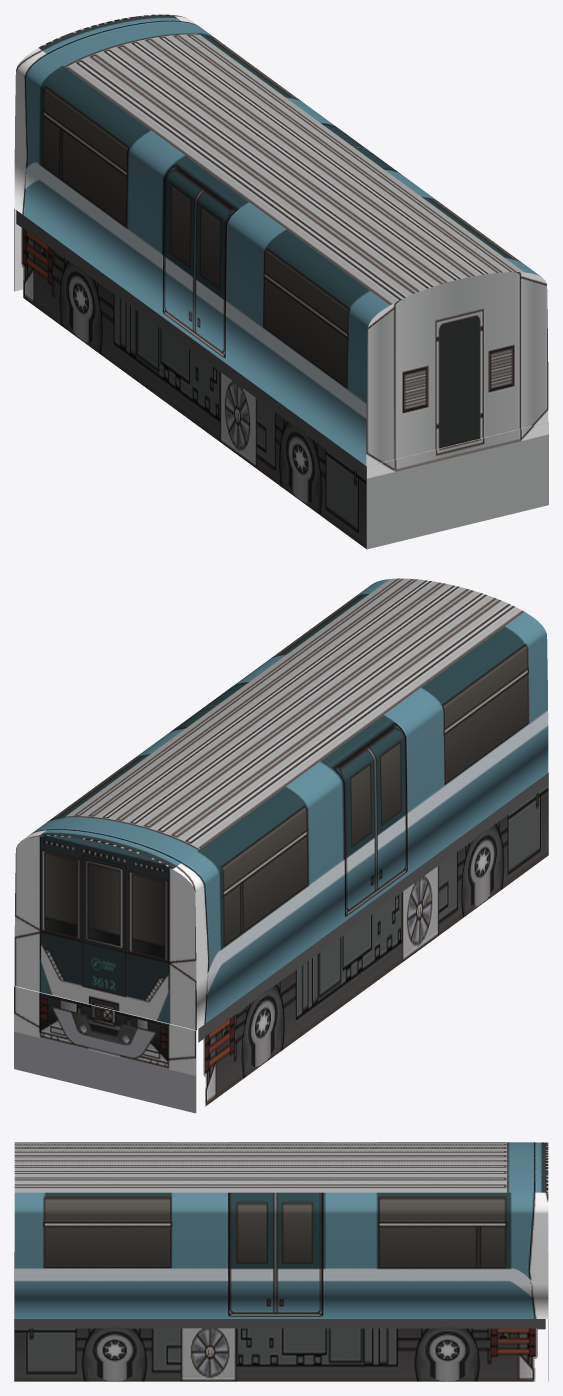
The model's file is car4.glb.
3 views of the same model, one above another, from view 1: azimuth 30°, elevation 25°; view 2: azimuth 150°, elevation 25°; view 3: azimuth 270°, elevation 25° (orthographic). The views are drawn at different scales.
Parts seen in each view (by area): view 1: kobesinkotu-3000-car4; view 2: kobesinkotu-3000-car4; view 3: kobesinkotu-3000-car4.
Boxes of the visible parts, bbox=[...] form: kobesinkotu-3000-car4: bbox=[14, 14, 548, 549]; kobesinkotu-3000-car4: bbox=[14, 578, 548, 1113]; kobesinkotu-3000-car4: bbox=[14, 1142, 548, 1381].
Size of the model in its own units: 2.51 by 3.26 by 8.43.
Materials: 9 (8 with a texture image).
